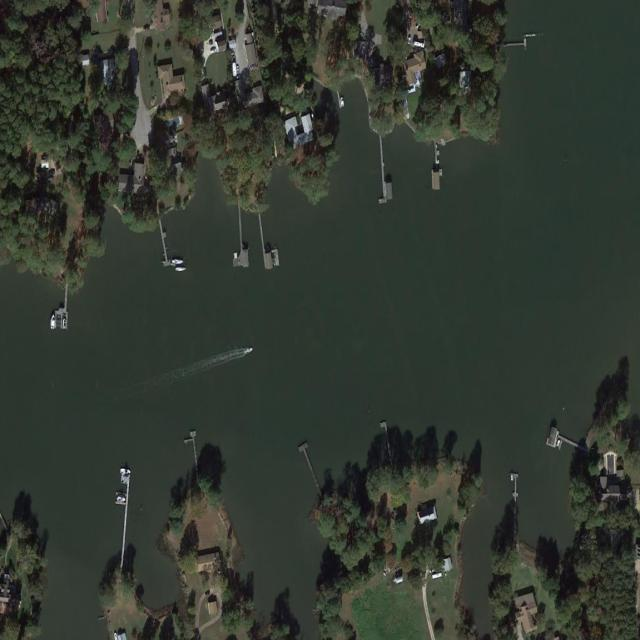large-vehicle: (430, 571, 443, 580)
ship: (118, 465, 132, 476), (244, 344, 255, 356), (50, 314, 56, 332), (172, 257, 185, 265), (173, 265, 186, 272), (116, 495, 127, 503), (339, 95, 345, 108), (62, 317, 67, 329)
